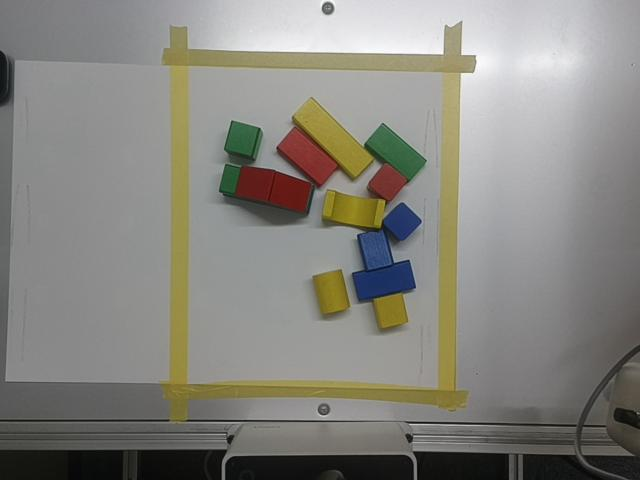blue_cube: (383, 203, 422, 240)
blue_rect: (354, 260, 416, 300)
cylinder: (313, 270, 350, 315)
green_cube: (224, 121, 264, 161)
green_rect: (365, 123, 427, 182)
half_cylinder: (359, 230, 393, 270)
red_cube: (368, 164, 408, 202)
red_rect: (278, 127, 338, 185)
triangle: (268, 172, 311, 213), (234, 167, 275, 202)
yellow_archrect: (323, 189, 385, 228)
yellow_cube: (375, 294, 408, 328)
yellow_longrect: (293, 98, 374, 179)
